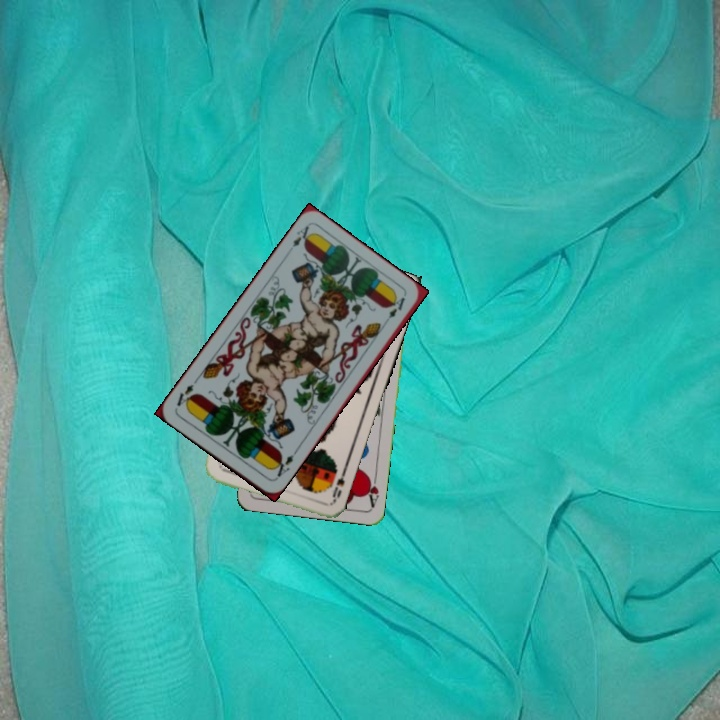EA: (268, 447, 300, 482), (288, 222, 315, 250)
HA: (362, 469, 382, 509)
SO: (328, 466, 348, 506)
